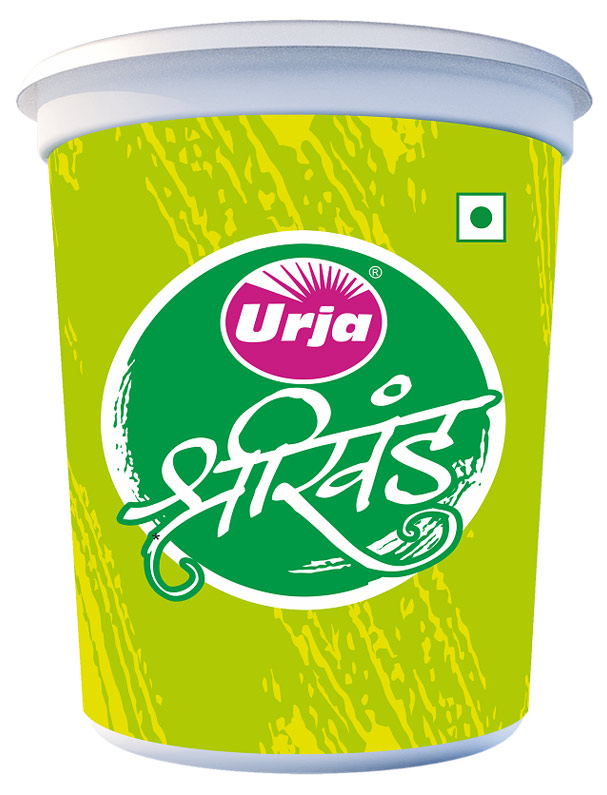VEG: (452, 188, 509, 246)
